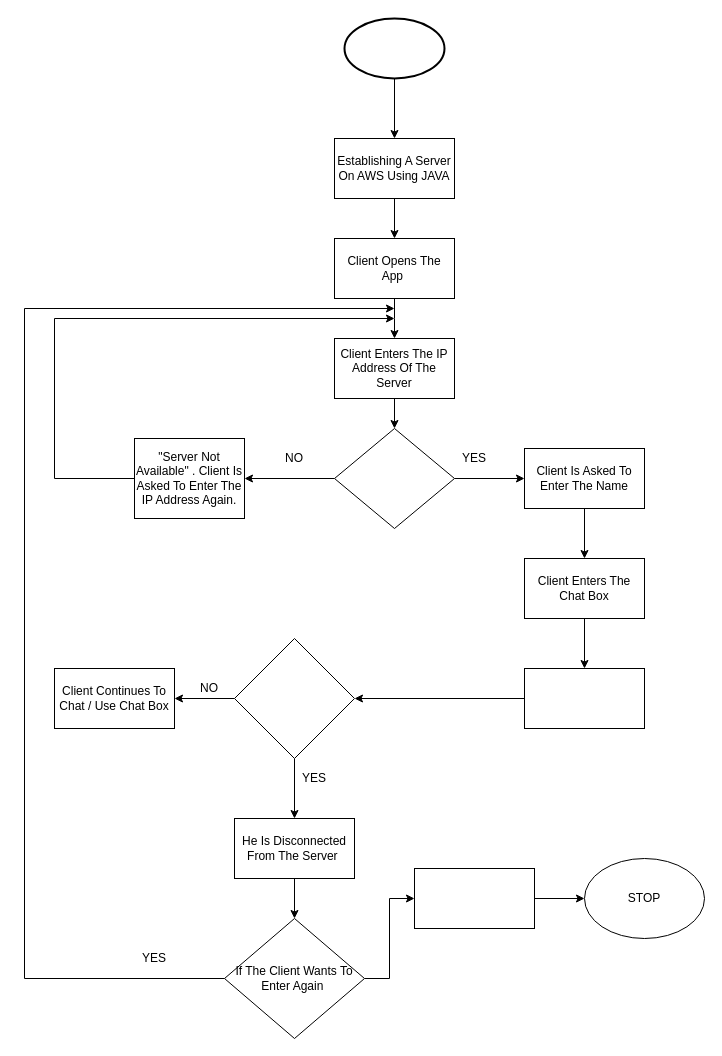
This 722x1056 diagram has some shape labels left out. Here are the shapes that lost their labels. From the top down, the box of each, then its label:
(343, 17, 445, 79): START
(334, 428, 454, 528): If IP Address Is True
(234, 638, 354, 758): If The Client Closes The Chat Box
(524, 668, 644, 728): Client Chats With Different Users.
(414, 868, 534, 928): Client Exits App
